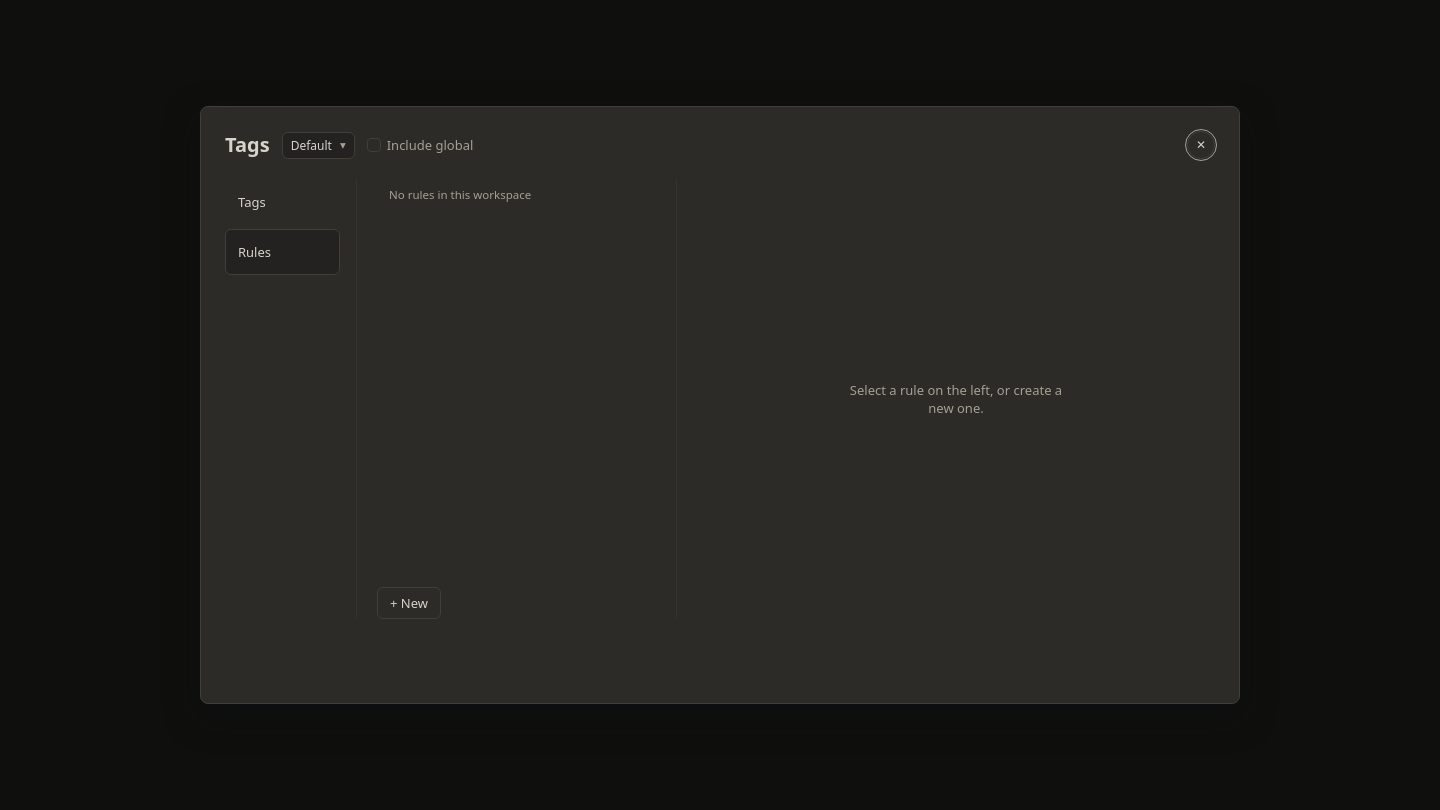
Test: where each row lives (spec 2026-10-03 H) › every row carries a marker, before its row actions
This screenshot has width=1440, height=810.
Click the button "Default ▾": [318, 145] box [282,132,355,158]
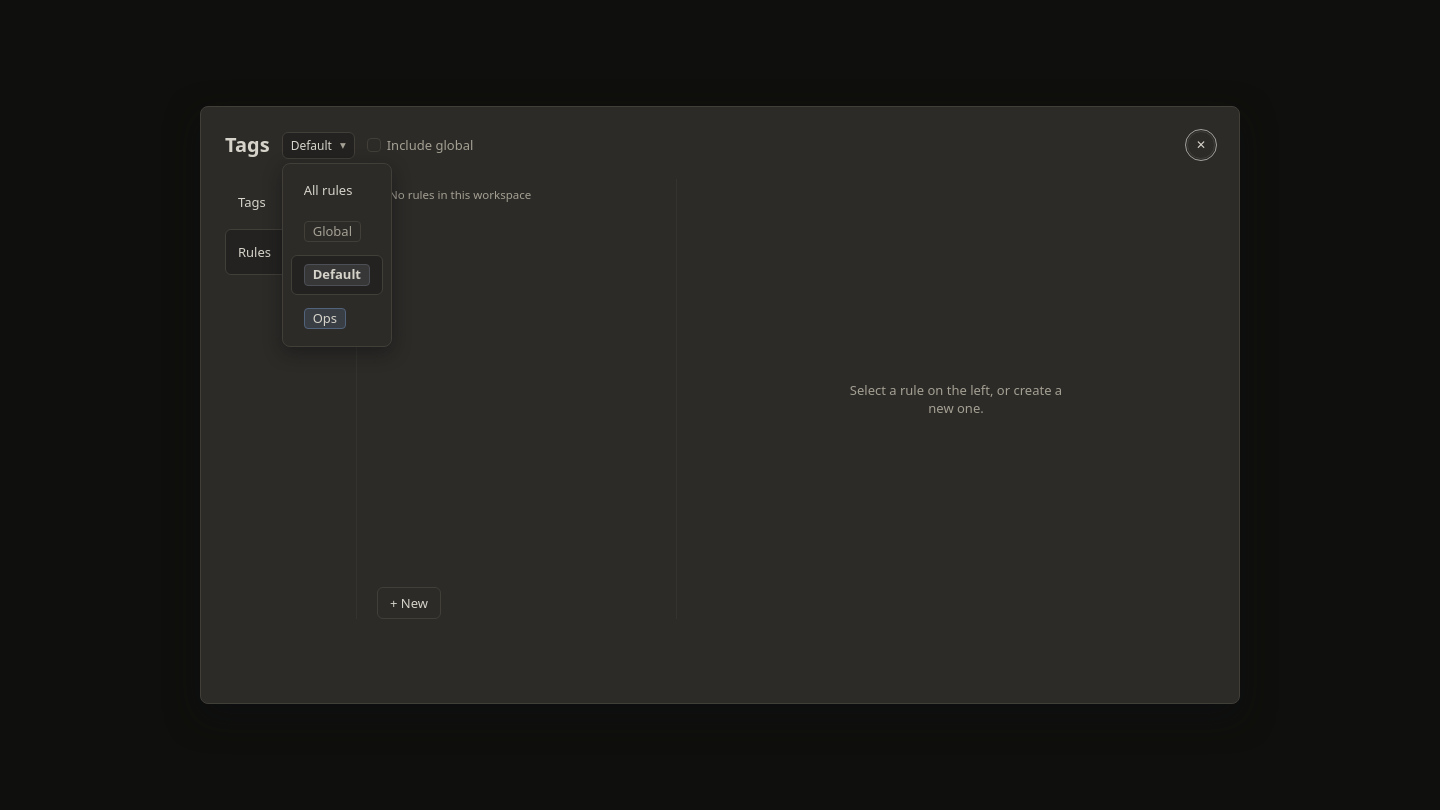
Click the option "All rules": [337, 190] box [291,172,383,208]
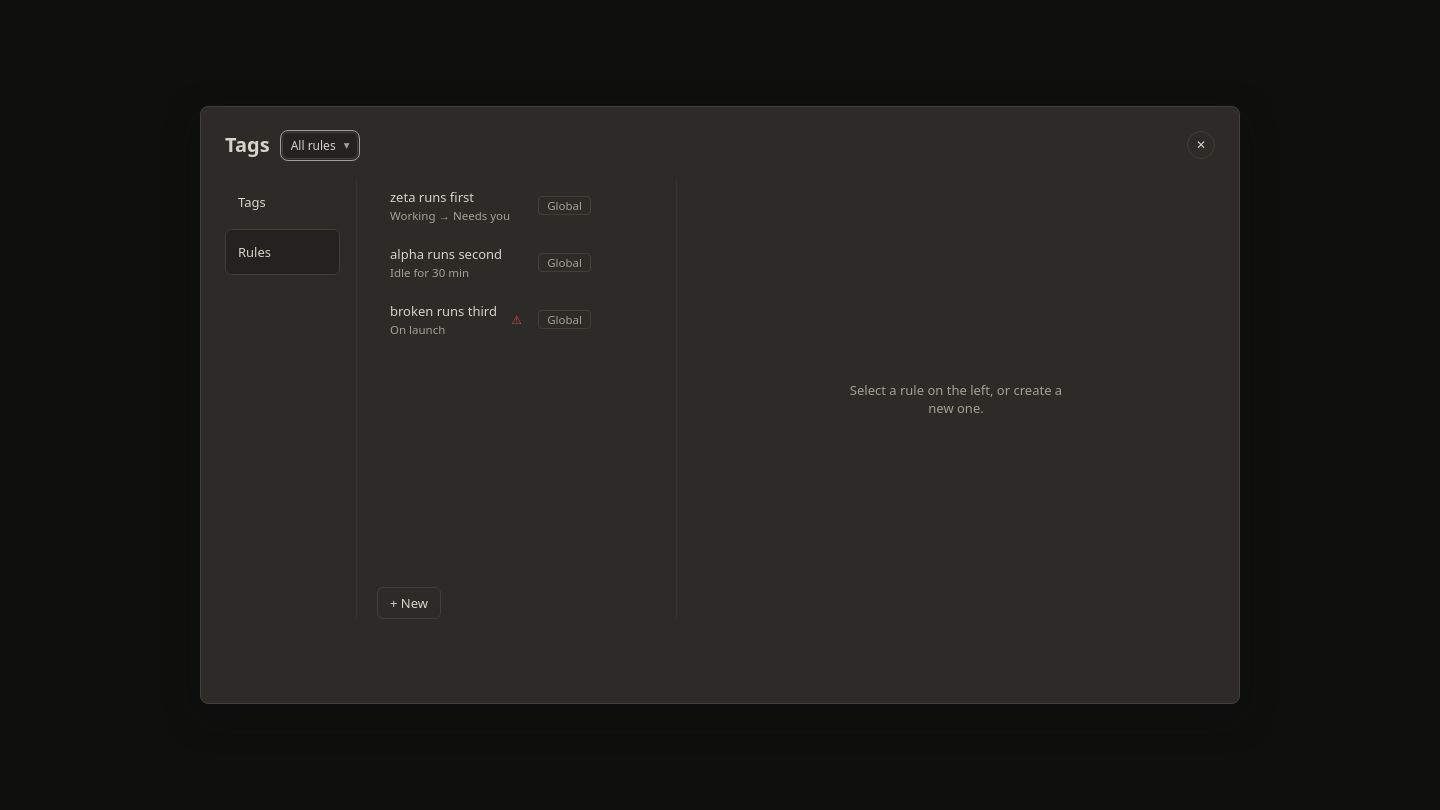
Check: the 1st element with test id "scope-marker" is shown, box [538,196,591,215]
Check: the 2nd element with test id "scope-marker" is shown, box [538,253,591,272]
Check: the 3rd element with test id "scope-marker" is shown, box [538,310,591,329]
